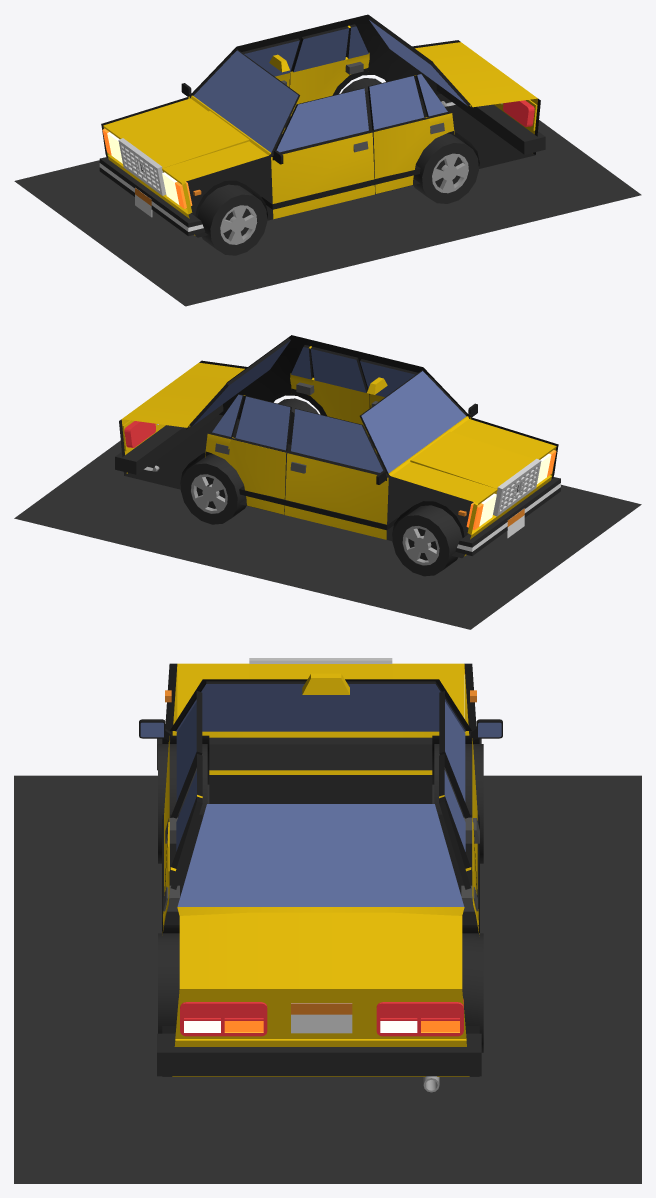
The model's file is taxi.glb.
3 renders of one model, top to bottom at view 1: azimuth 30°, elevation 25°; view 2: azimuth 150°, elevation 25°; view 3: azimuth 270°, elevation 25°, orthographic. The views are drawn at different scales.
Visible parts, largest first — view 1: Cube_3, Plane.002_23, Cube.019_15, Cube.023_18, Cube.003_5, Cube.004_6, Cube.005_7, Cube.010_12, Cube.006_8, Cube.024_19; view 2: Cube_3, Plane.002_23, Cube.008_10, Cube.024_19, Cube.003_5, Cube.004_6, Cube.005_7, Cube.002_4, Cube.007_9, Cube.023_18; view 3: Plane.002_23, Cube_3, Cube.003_5, Cube.004_6, Cube.002_4, Cube.010_12, Cube.024_19, Cube.023_18, Plane_21, Cube.019_15, Cube.008_10, Cube.021_17 (+3 smaller).
Boxes of the visible parts, left/top/right/bottom form: Cube_3: left=101, top=14, right=540, bottom=237; Plane.002_23: left=14, top=120, right=641, bottom=306; Cube.019_15: left=197, top=184, right=267, bottom=255; Cube.023_18: left=413, top=133, right=478, bottom=203; Cube.003_5: left=436, top=83, right=545, bottom=154; Cube.004_6: left=99, top=157, right=205, bottom=236; Cube.005_7: left=118, top=138, right=166, bottom=195; Cube.010_12: left=503, top=100, right=534, bottom=126; Cube.006_8: left=162, top=172, right=192, bottom=208; Cube.024_19: left=341, top=78, right=381, bottom=123; Cube_3: left=119, top=335, right=558, bottom=558; Plane.002_23: left=14, top=440, right=641, bottom=629; Cube.008_10: left=392, top=505, right=462, bottom=576; Cube.024_19: left=180, top=454, right=246, bottom=524; Cube.003_5: left=115, top=404, right=223, bottom=474; Cube.004_6: left=455, top=477, right=560, bottom=555; Cube.005_7: left=493, top=458, right=541, bottom=516; Cube.002_4: left=124, top=421, right=155, bottom=447; Cube.007_9: left=466, top=493, right=496, bottom=530; Cube.023_18: left=278, top=398, right=318, bottom=444; Plane.002_23: left=14, top=775, right=641, bottom=1183; Cube_3: left=162, top=663, right=479, bottom=1076; Cube.003_5: left=157, top=1033, right=481, bottom=1076; Cube.004_6: left=157, top=737, right=481, bottom=770; Cube.002_4: left=376, top=999, right=463, bottom=1036; Cube.010_12: left=180, top=1002, right=267, bottom=1036; Cube.024_19: left=462, top=933, right=483, bottom=1052; Cube.023_18: left=158, top=933, right=179, bottom=1033; Plane_21: left=291, top=1003, right=352, bottom=1033; Cube.019_15: left=158, top=744, right=207, bottom=863; Cube.008_10: left=434, top=744, right=483, bottom=863; Cube.021_17: left=139, top=719, right=502, bottom=741.
Bounding box in the file's own units: 3.47 × 1.03 × 2.26.
